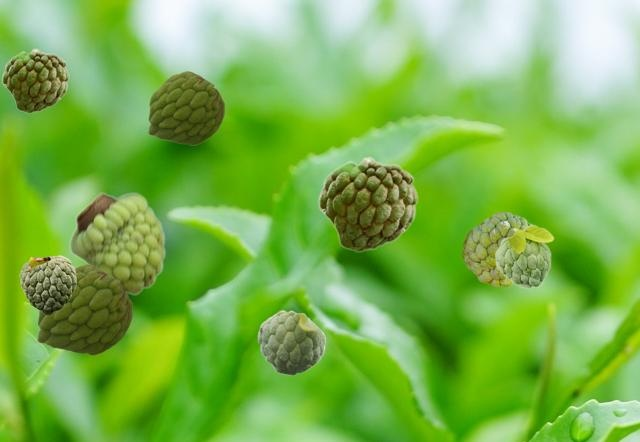atis: (69, 191, 165, 295), (317, 156, 417, 251), (37, 264, 131, 354), (148, 71, 223, 144), (462, 212, 531, 285), (257, 310, 325, 374), (1, 48, 68, 112), (494, 224, 553, 288), (19, 255, 75, 314)
